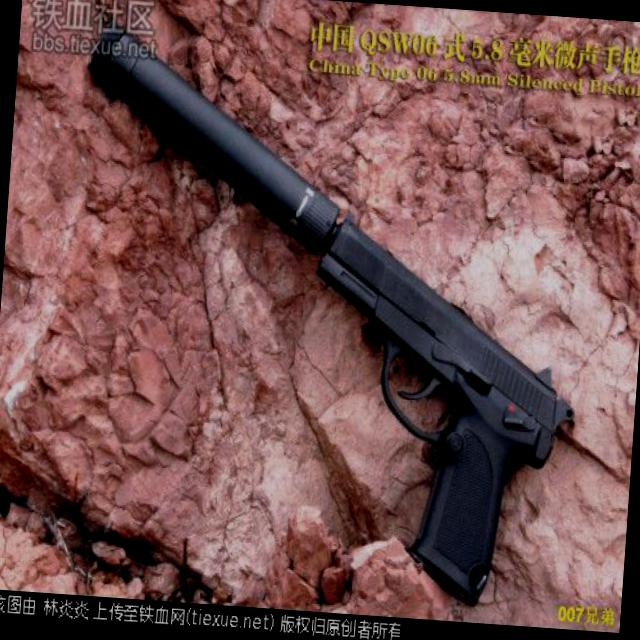handgun: (287, 192, 586, 611)
